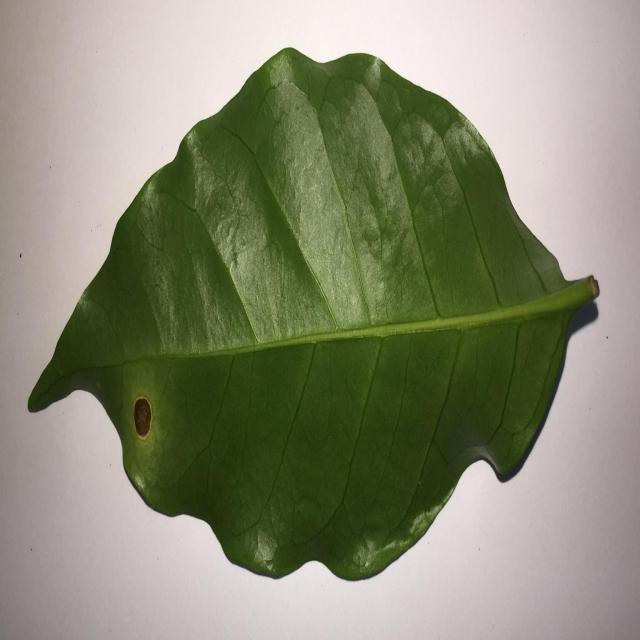Enfermedad-Mancha-de-hierro: (26, 47, 600, 584)
